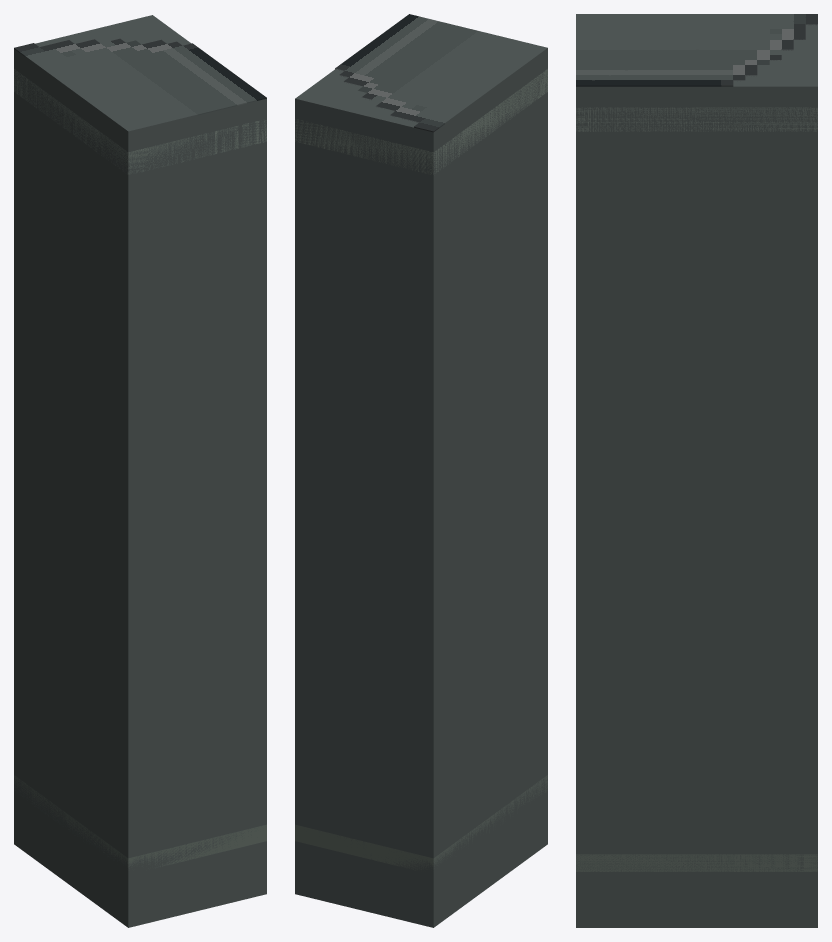
The model's file is CMU3DInteriorVehicleVanFront3.glb.
3 renders of one model, left to right at view 1: azimuth 30°, elevation 25°; view 2: azimuth 150°, elevation 25°; view 3: azimuth 270°, elevation 25°, orthographic. The views are drawn at different scales.
Parts seen in each view (by area): view 1: cabin bulkhead, cabin bulkhead source finish, upper armor trim, lower armor trim; view 2: cabin bulkhead, cabin bulkhead source finish, upper armor trim, lower armor trim; view 3: cabin bulkhead, cabin bulkhead source finish, lower armor trim, upper armor trim.
Part boxes in pixels (left/top/right/bottom): cabin bulkhead: left=14, top=15, right=266, bottom=927; cabin bulkhead source finish: left=14, top=38, right=266, bottom=132; upper armor trim: left=14, top=69, right=266, bottom=174; lower armor trim: left=14, top=775, right=266, bottom=869; cabin bulkhead: left=295, top=49, right=547, bottom=927; cabin bulkhead source finish: left=335, top=14, right=547, bottom=132; upper armor trim: left=295, top=69, right=547, bottom=174; lower armor trim: left=295, top=775, right=547, bottom=870; cabin bulkhead: left=576, top=24, right=817, bottom=927; cabin bulkhead source finish: left=576, top=14, right=817, bottom=86; lower armor trim: left=576, top=854, right=817, bottom=871; upper armor trim: left=576, top=107, right=817, bottom=131.
Size of the model in its own units: 0.4375 by 2.4 by 0.625.
4 materials, 1 textured.
